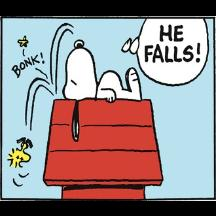snoopy: (62, 39, 142, 141)
